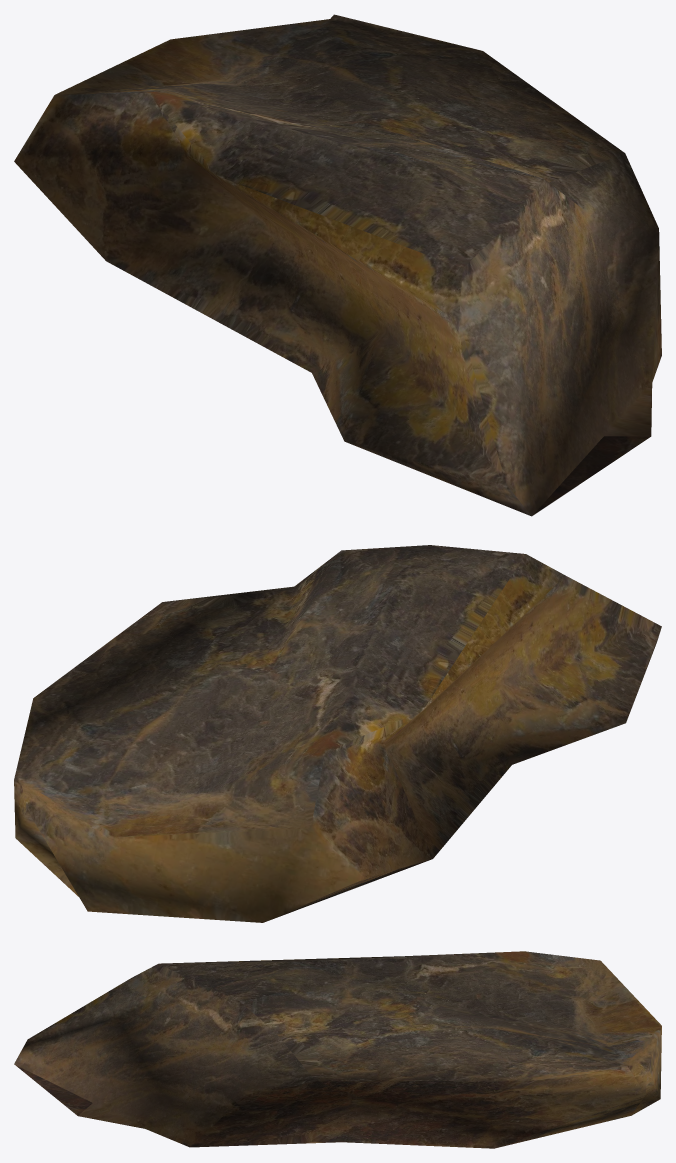
The model's file is rock-lod.glb.
3 views of the same model, one above another, from view 1: azimuth 30°, elevation 25°; view 2: azimuth 150°, elevation 25°; view 3: azimuth 270°, elevation 25° (orthographic). The views are drawn at different scales.
Visible parts, largest first — view 1: rock_09_LOD0; view 2: rock_09_LOD0; view 3: rock_09_LOD0.
Boxes of the visible parts, x1=… form: rock_09_LOD0: x1=14, y1=14, x2=661, y2=516; rock_09_LOD0: x1=14, y1=545, x2=661, y2=922; rock_09_LOD0: x1=14, y1=951, x2=661, y2=1148.
Size of the model in its own units: 0.0724 by 0.0321 by 0.1417.
Materials: 1 (1 with a texture image).
